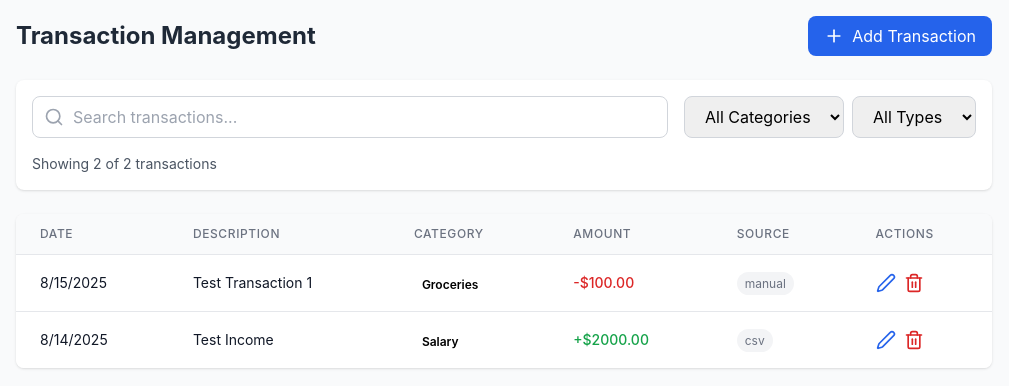
Scenario: TransactionManager Component › filters transactions by category
The width and height of the screenshot is (1009, 386).
Select "Groceries" in the 1st dropdown showing "All Categories". click: (764,117)
box: top-left (684, 96), bottom-right (844, 138)
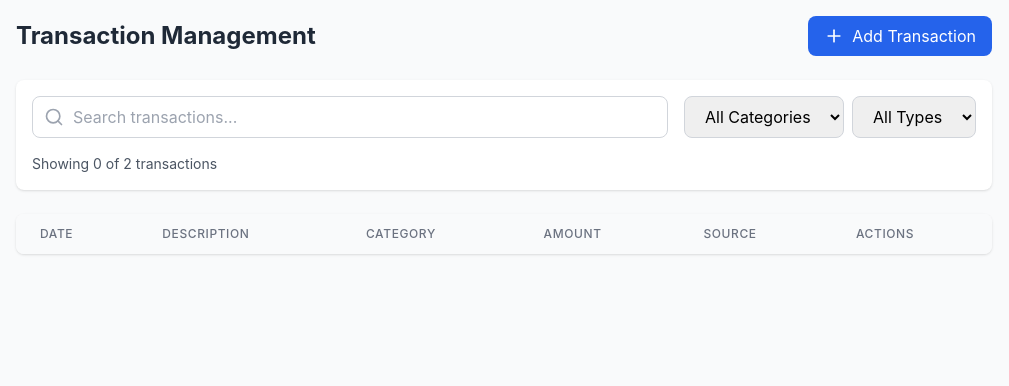
Select "Groceries" in the 1st dropdown showing "All Categories". click: (764,117)
box: top-left (684, 96), bottom-right (844, 138)
Select "Groceries" in the 1st dropdown showing "All Categories". click: (764,117)
box: top-left (684, 96), bottom-right (844, 138)
Select "Groceries" in the 1st dropdown showing "All Categories". click: (764,117)
box: top-left (684, 96), bottom-right (844, 138)
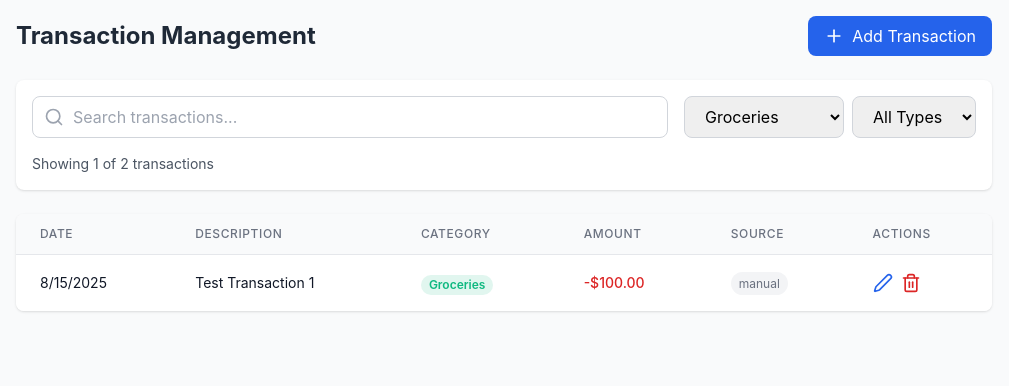
Result: the text "Test Transaction 1" is shown at top-left (171, 254), bottom-right (397, 311)
